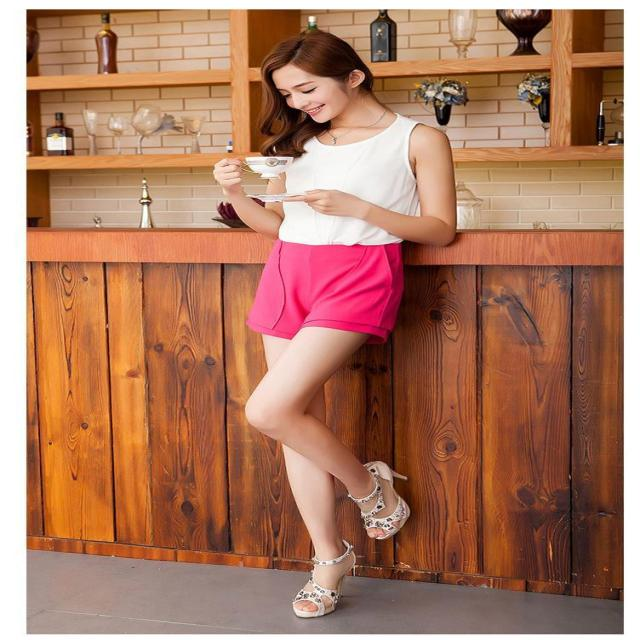shorts: (241, 232, 428, 354)
